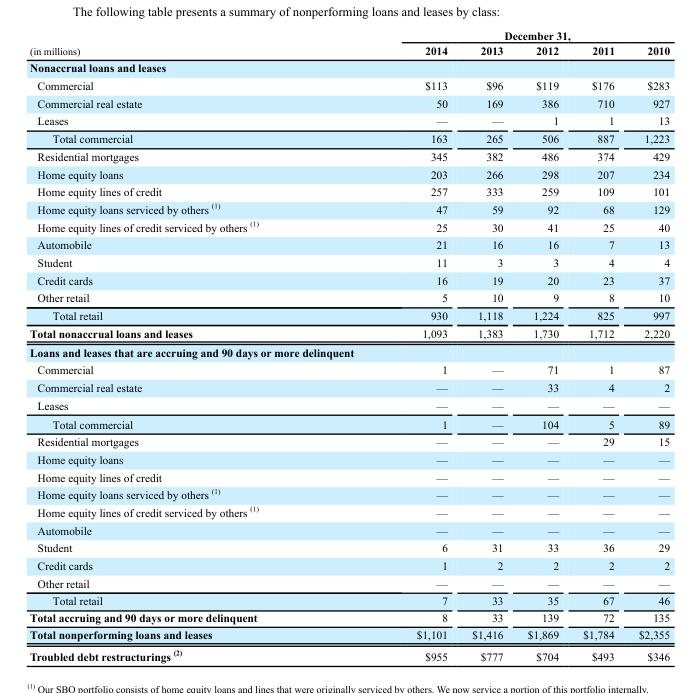table: (29, 28, 669, 662)
table column: (29, 28, 336, 662), (336, 28, 459, 662), (514, 28, 570, 662), (570, 28, 626, 662), (459, 28, 514, 662), (626, 28, 669, 662)
table column header: (29, 28, 669, 58)
table projected row header: (29, 58, 669, 76), (29, 342, 669, 360)
table row: (29, 323, 669, 342), (29, 395, 669, 414), (29, 625, 669, 644), (29, 58, 669, 76), (29, 76, 669, 94), (29, 111, 669, 129), (29, 129, 669, 147), (29, 164, 669, 182), (29, 199, 669, 217), (29, 217, 669, 235), (29, 235, 669, 253), (29, 270, 669, 288), (29, 288, 669, 306), (29, 342, 669, 360), (29, 360, 669, 378), (29, 414, 669, 432), (29, 432, 669, 450), (29, 484, 669, 502), (29, 502, 669, 520), (29, 520, 669, 538), (29, 538, 669, 556), (29, 573, 669, 591), (29, 644, 669, 662), (29, 94, 669, 111), (29, 147, 669, 164), (29, 182, 669, 199), (29, 253, 669, 270), (29, 306, 669, 323), (29, 378, 669, 395), (29, 450, 669, 467), (29, 467, 669, 484), (29, 556, 669, 573), (29, 591, 669, 608), (29, 608, 669, 625), (29, 42, 669, 58), (29, 28, 669, 42)
table spanning cell: (29, 28, 336, 58), (336, 28, 669, 42)
